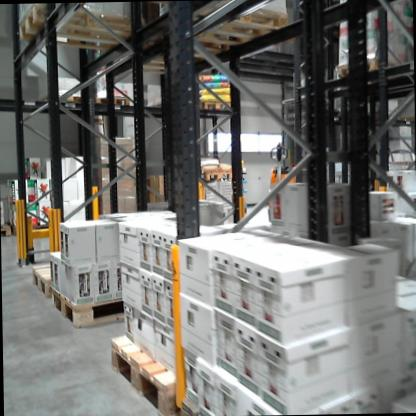pallet: (102, 320, 217, 412), (14, 1, 167, 56), (119, 15, 246, 80), (186, 0, 321, 43), (46, 278, 134, 332), (334, 54, 407, 89), (170, 389, 241, 415), (27, 255, 59, 305), (187, 163, 247, 187), (31, 90, 90, 112), (8, 218, 66, 239), (89, 91, 134, 111), (199, 98, 243, 114), (387, 114, 414, 128), (1, 223, 11, 242)
pallet_truck: (262, 136, 347, 240)
